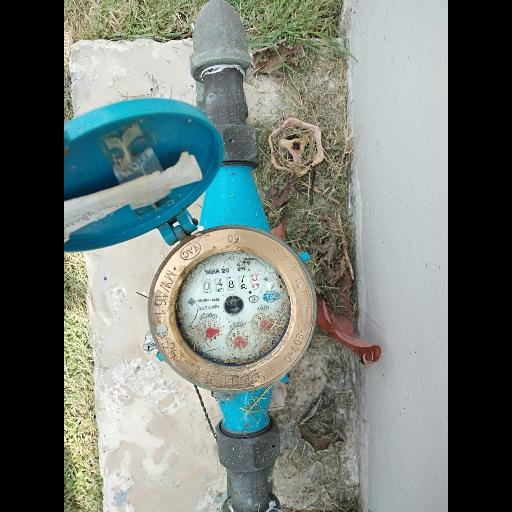0: (203, 279, 211, 294)
4: (215, 278, 224, 293)
7: (238, 275, 248, 290)
8: (227, 277, 236, 291)
9: (251, 274, 260, 288)
border_water_meter_number: (202, 274, 260, 295)
